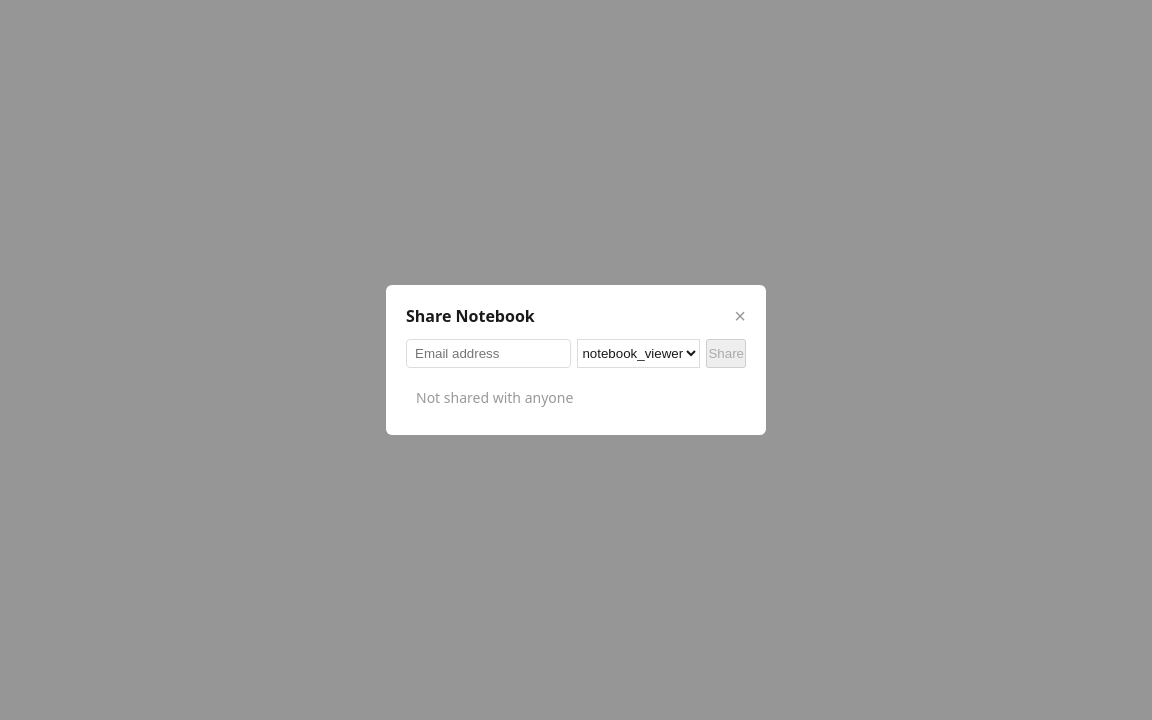
Test case: ShareDialog › renders an inline message for a 404 response
Type "nobody@test.com" into the field with placeholder "Email address" at (489,354), box top-left (406, 339), bottom-right (571, 368)
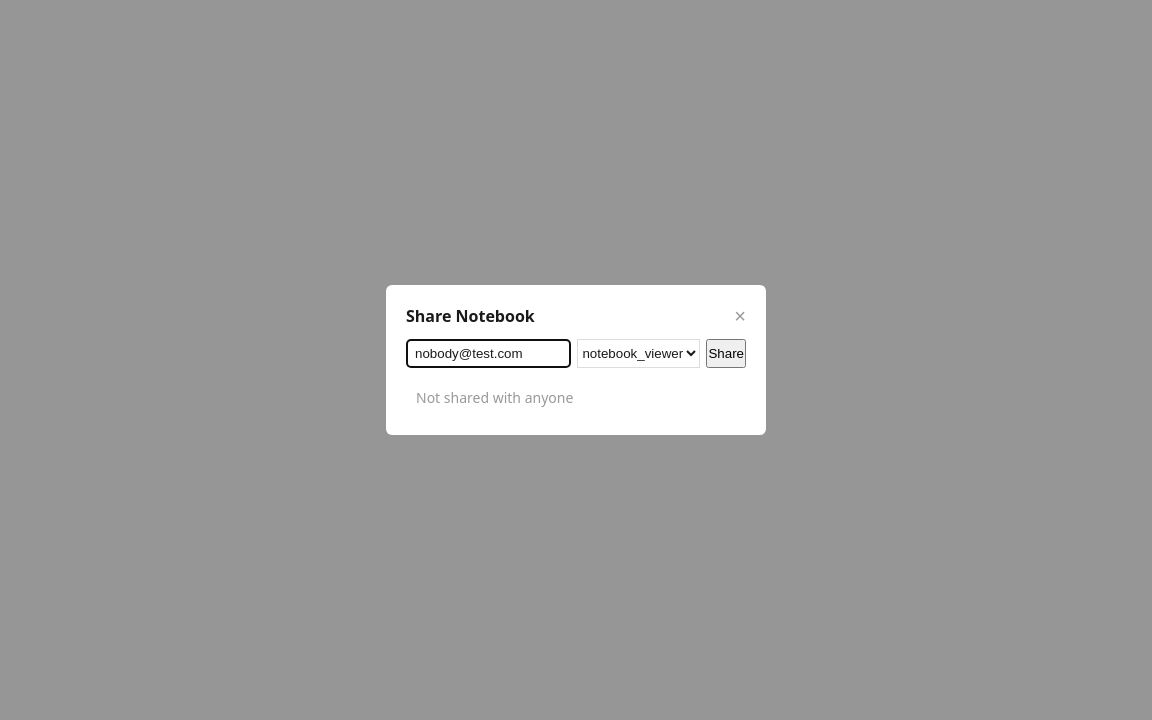
Click the button "Share" at (726,354), box top-left (706, 339), bottom-right (746, 368)
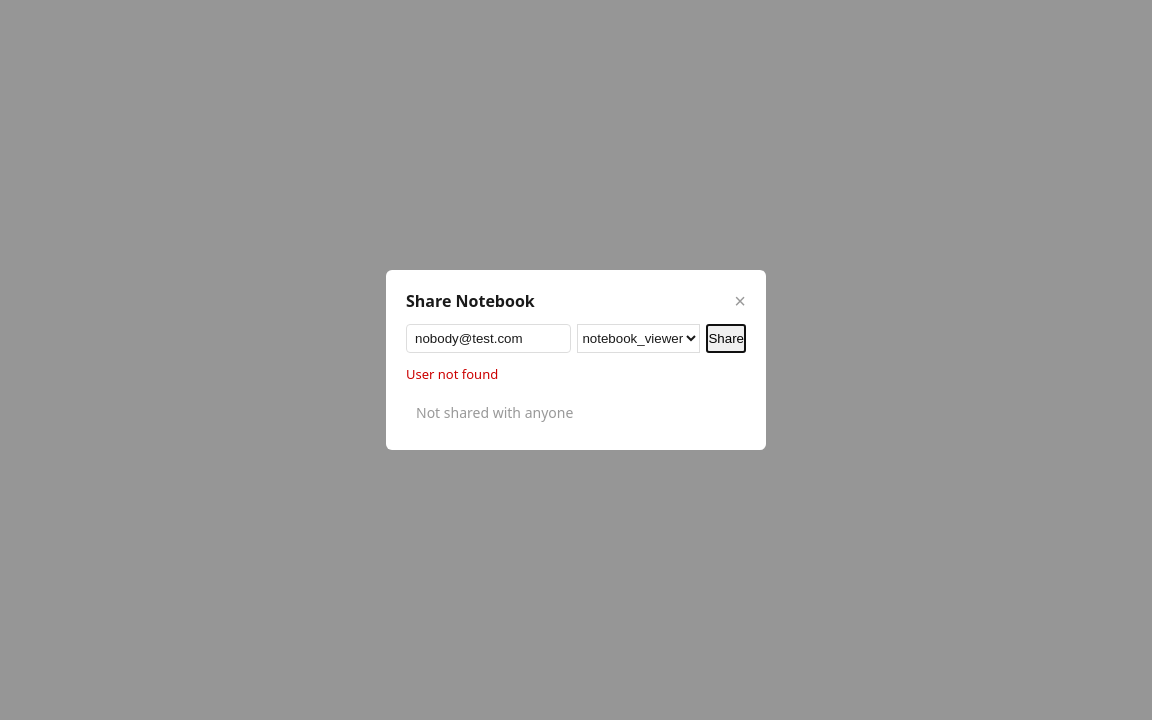
Expected: the text "User not found" is shown, top-left (406, 365), bottom-right (498, 383)
